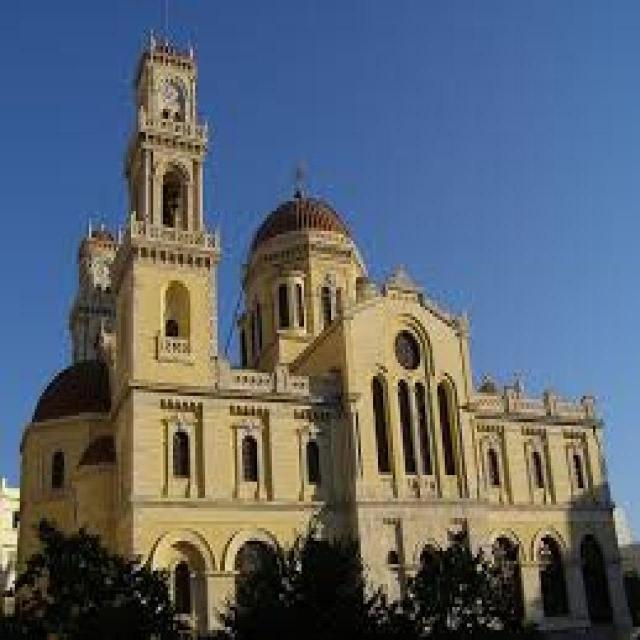Agios Minas: (21, 39, 637, 640)
